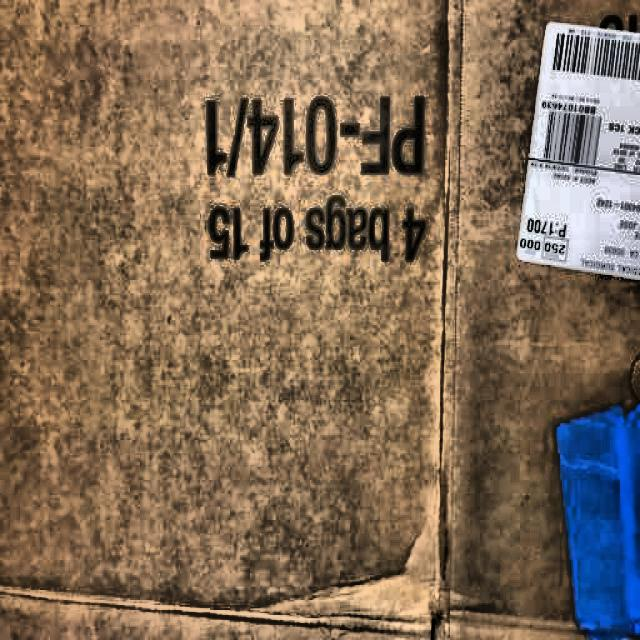cardboard: (6, 8, 634, 627)
